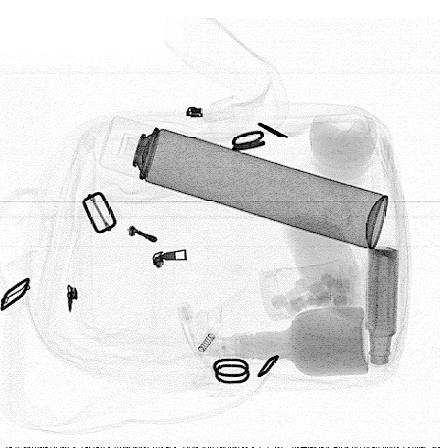Sprayer: (97, 114, 388, 249)
